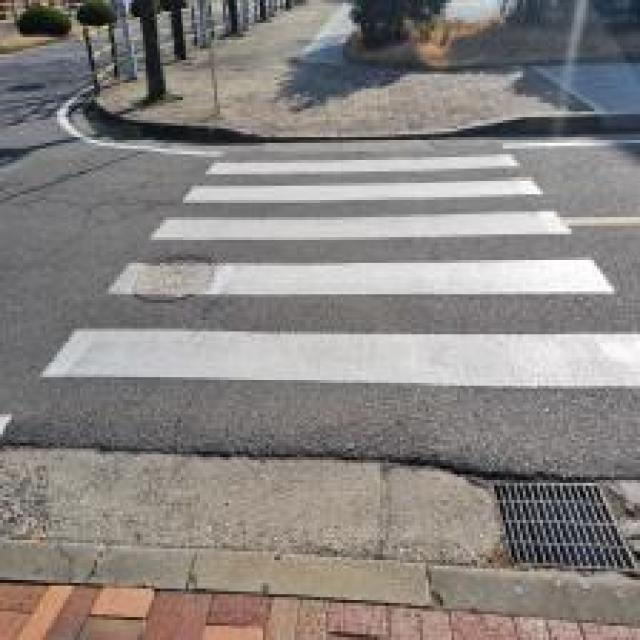walk-crossing: (111, 132, 640, 508)
